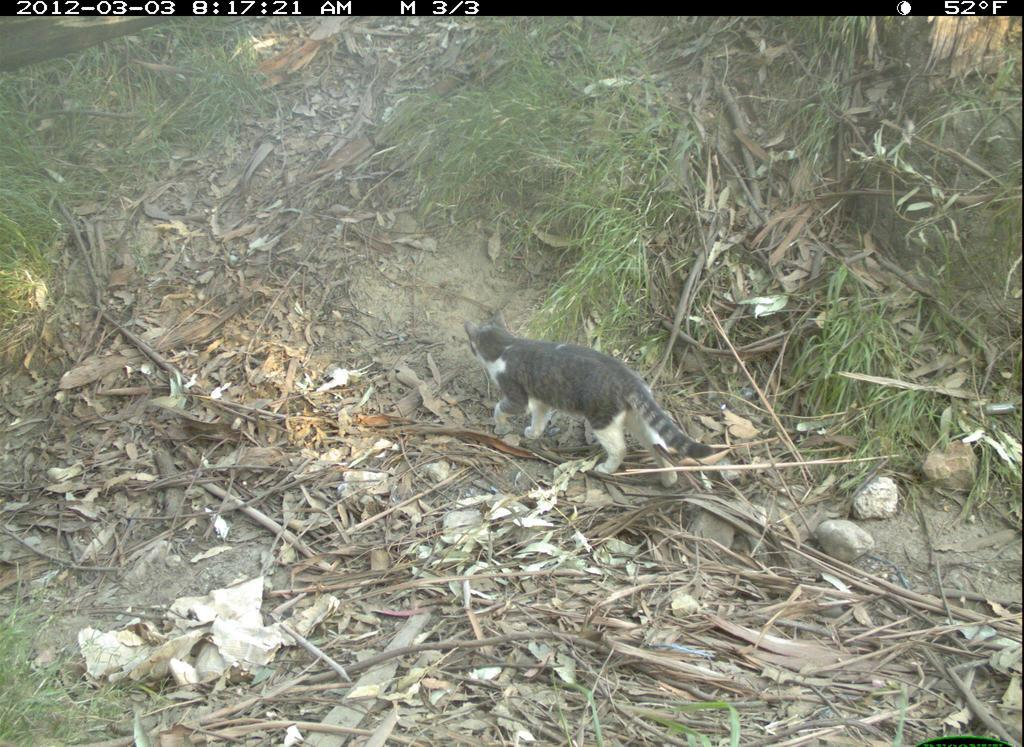cat: (454, 309, 712, 493)
